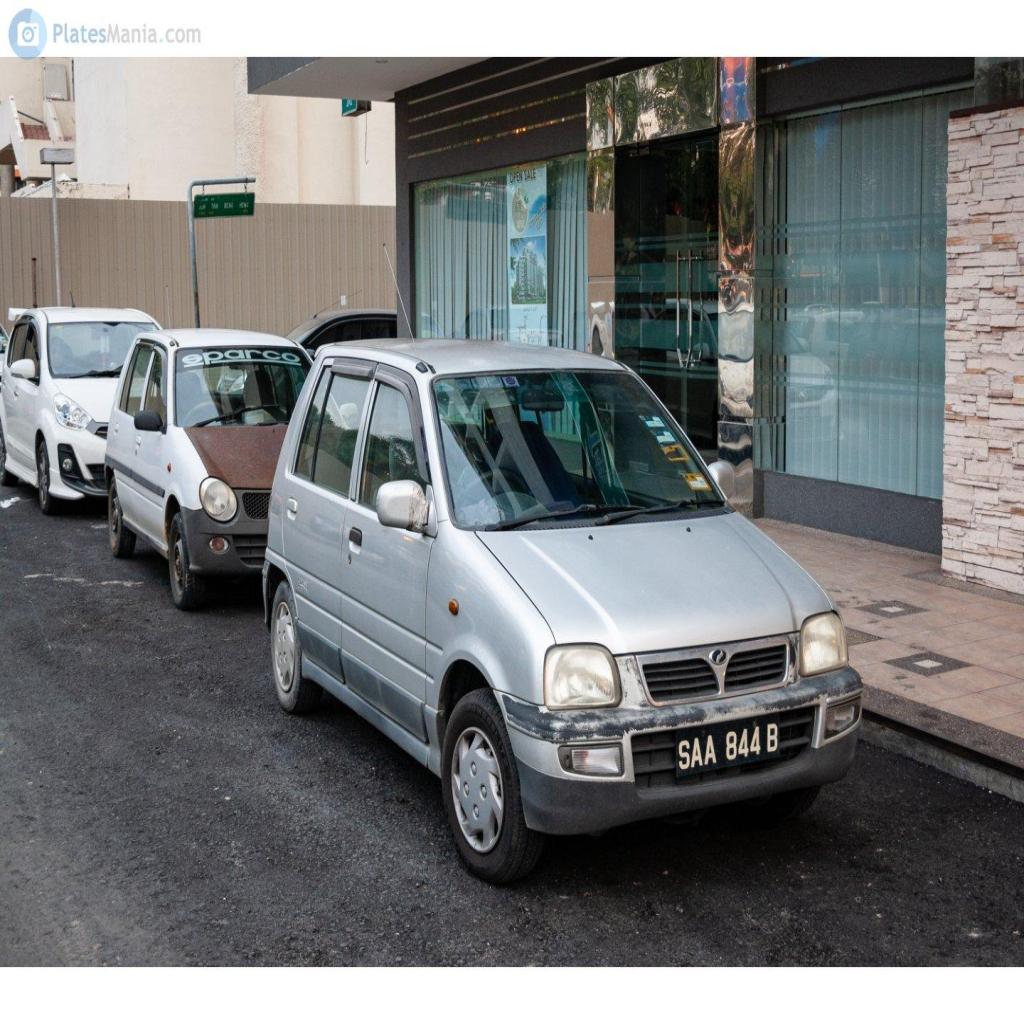car: (264, 340, 860, 881)
car plate: (676, 715, 779, 776)
